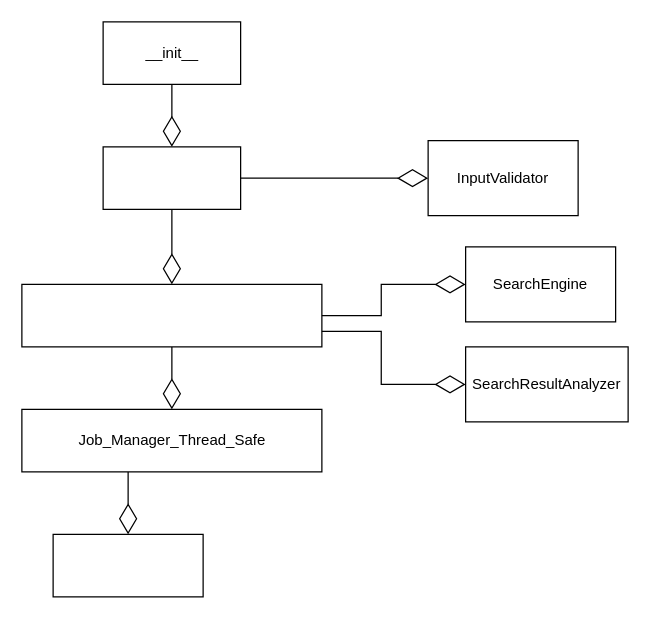
The diagram is 650 pixels wide and 619 high, and some of its shapes have lost their labels. Here are the shapes that lost their labels. From the top down, the box of each, then its label:
(102, 146, 241, 209): Job_Manager_API
(21, 283, 322, 347): Job_Manager_Thread_Safe_GenomeFltr
(52, 533, 203, 597): JobListener
